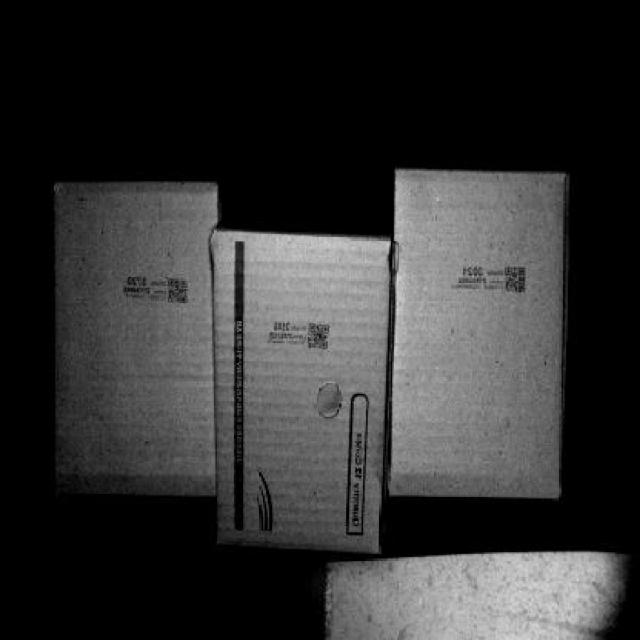cardboxes: (388, 169, 564, 497), (213, 243, 389, 554), (46, 186, 212, 488)
